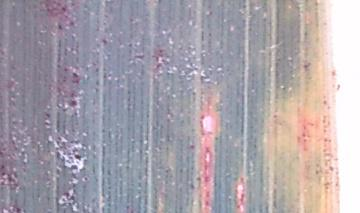tarspot: (61, 191, 77, 202), (69, 72, 81, 84), (67, 99, 80, 109), (301, 61, 311, 72), (73, 152, 82, 162), (43, 111, 52, 120), (100, 37, 108, 47), (335, 82, 342, 92), (188, 143, 196, 151), (330, 69, 337, 77), (328, 164, 334, 173), (56, 23, 63, 30), (14, 207, 22, 213), (82, 175, 88, 182), (60, 7, 67, 12), (1, 163, 6, 170), (1, 171, 7, 176)
